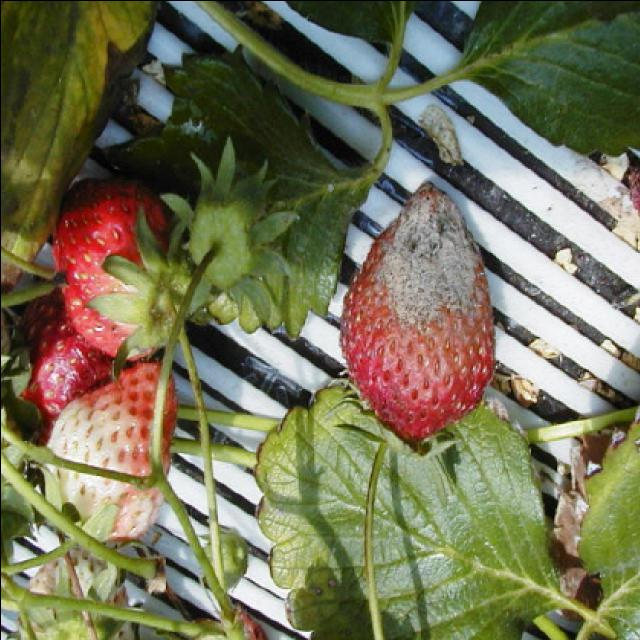Gray Mold: (336, 179, 493, 379)
